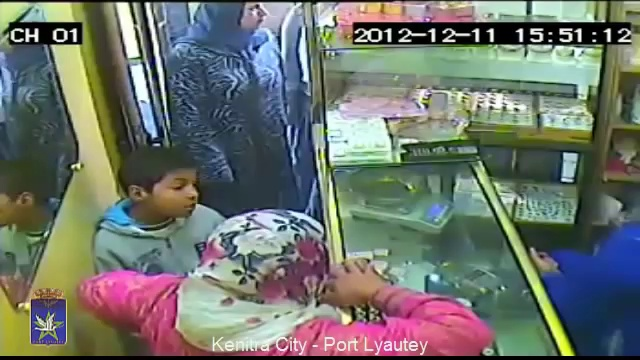face: (150, 170, 199, 217), (233, 2, 271, 29)
